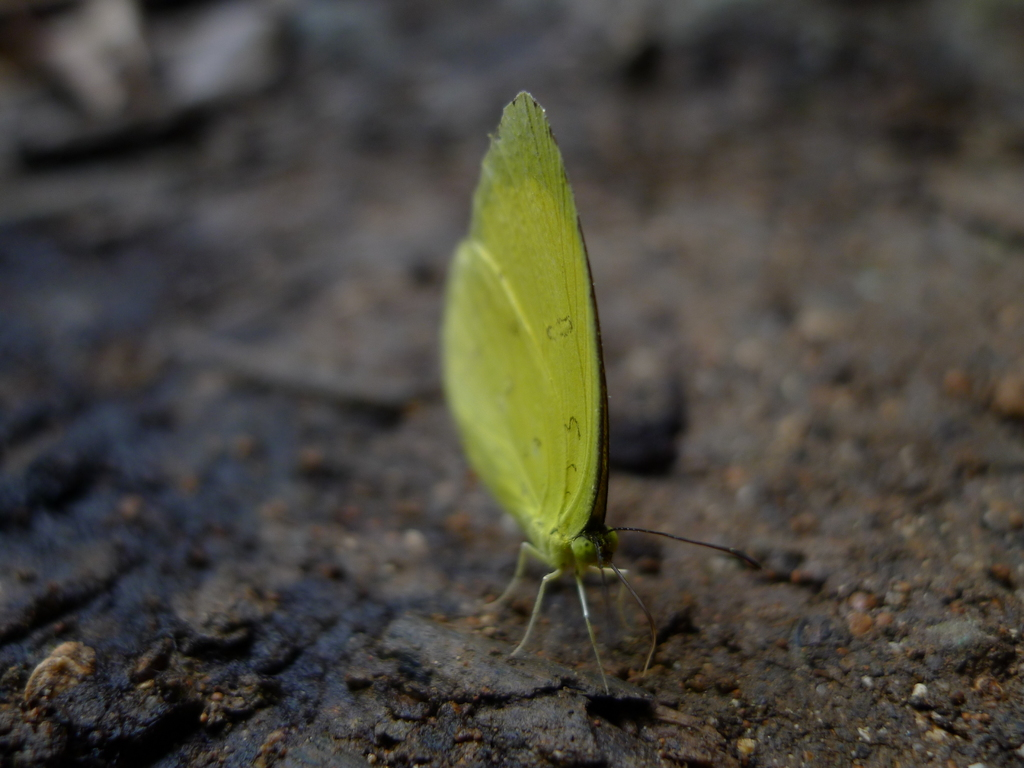Butterfly: (403, 86, 641, 694)
